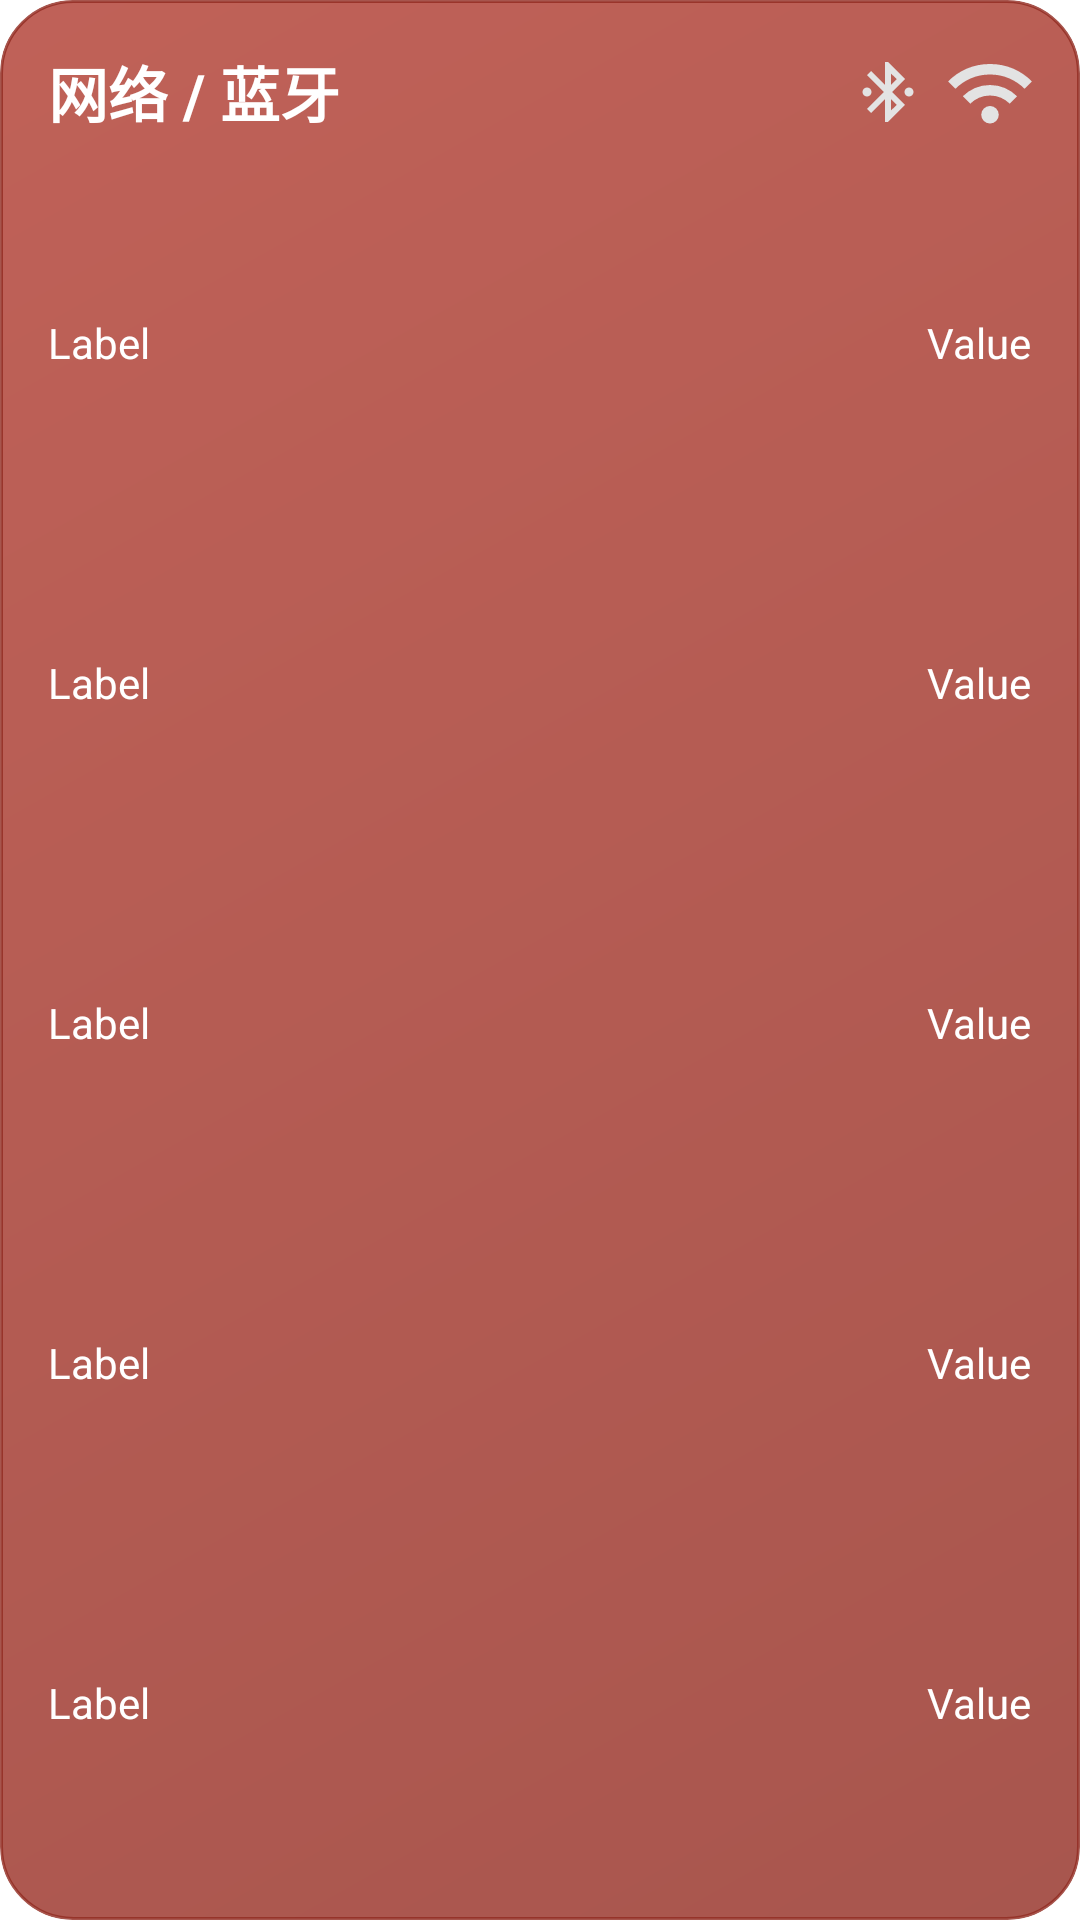

Icons on this 1080 x 1920 Android screen, each with the point to tap as [x,y]:
network icon: [990,94]
